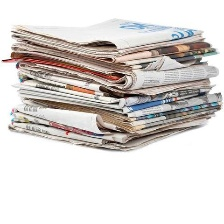news_paper: (0, 10, 224, 154)
